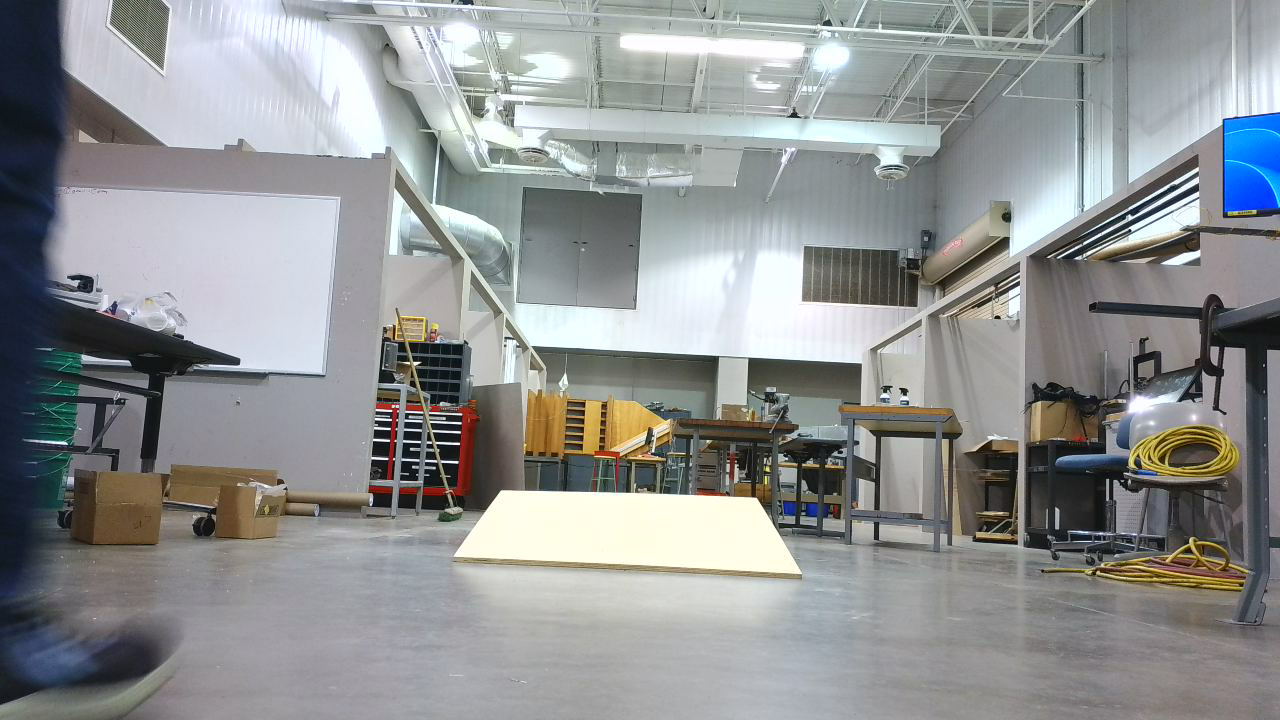ramp: (452, 489, 814, 590)
